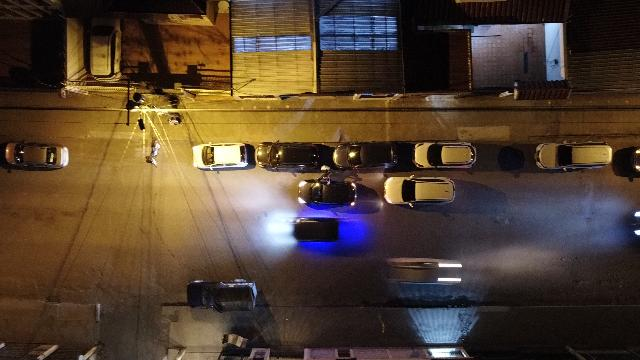Vehiculo: (381, 254, 465, 288), (532, 140, 614, 174), (382, 174, 458, 209), (186, 279, 260, 314), (294, 176, 361, 210), (1, 140, 69, 170), (409, 142, 481, 170), (282, 215, 342, 248), (330, 142, 400, 170), (192, 142, 255, 170), (257, 142, 319, 170), (630, 145, 640, 174)
